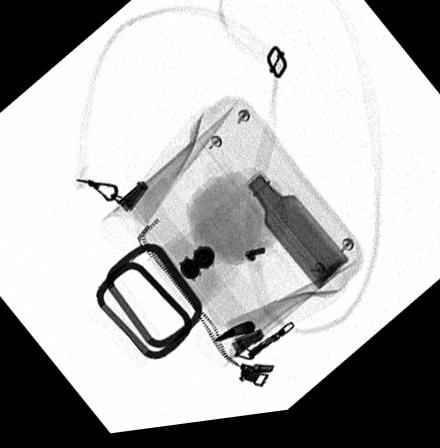Bullet: (210, 326, 255, 349)
